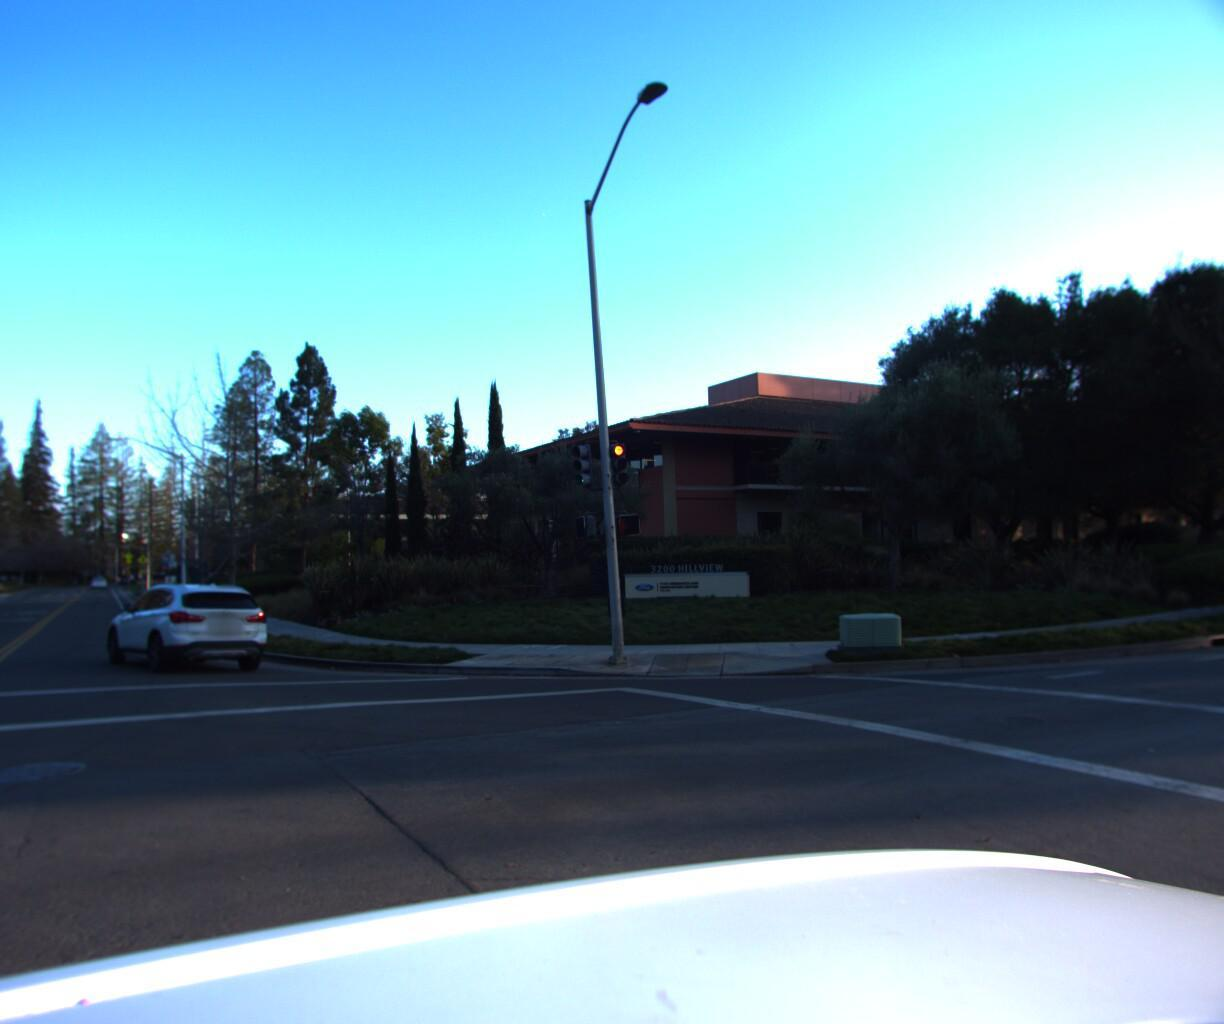car: (90, 580, 286, 690)
